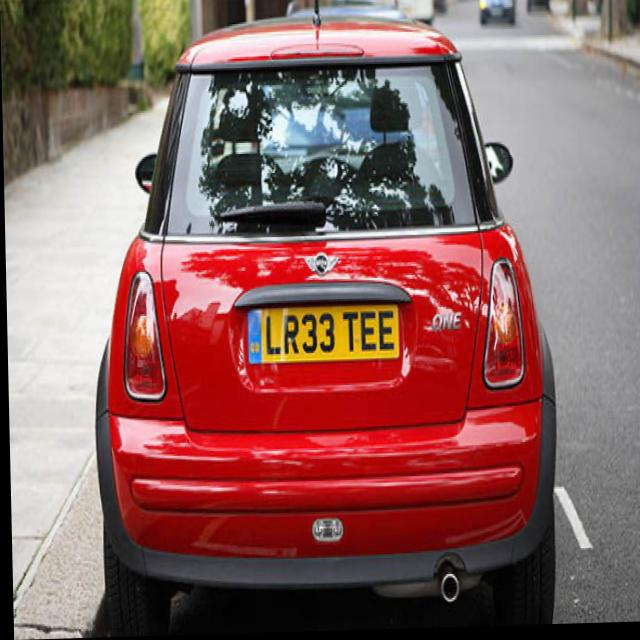licence: (243, 305, 396, 358)
